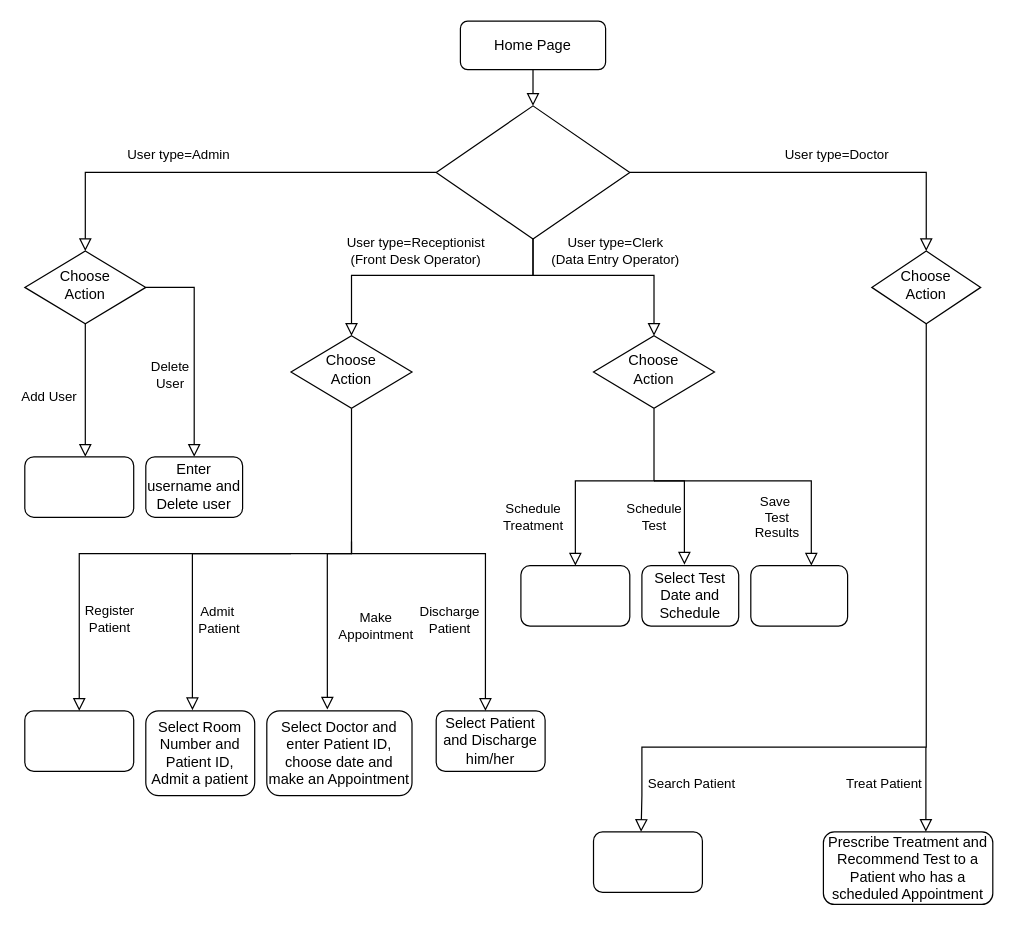
Some shapes in this 1014 by 926 pixel diagram are drawn without their labels. Each missing label, with the centre of its shape:
"Enter details and Create new user" goes at point 79,486.
"Enter details and Register new Patient" goes at point 79,740.
"Enter username, password, choose user type, and Login" goes at point 532,172.
"Select Treatment Date and Schedule" goes at point 575,595.
"Upload Test Result along with Image" goes at point 799,595.
"View Patient records" goes at point 647,861.
